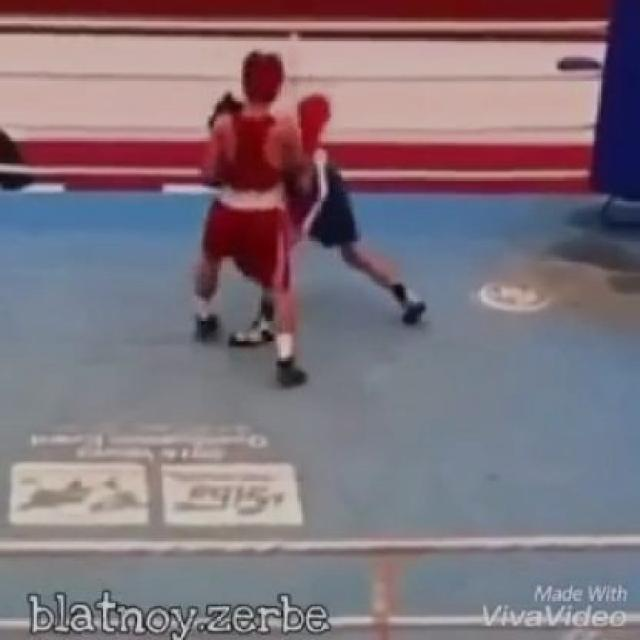fight: (190, 39, 428, 390)
